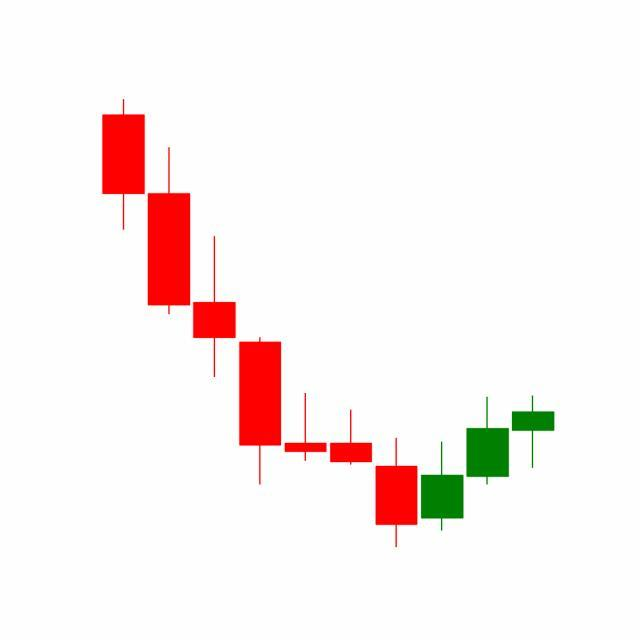Hikkake Pattern: (283, 390, 512, 548)
